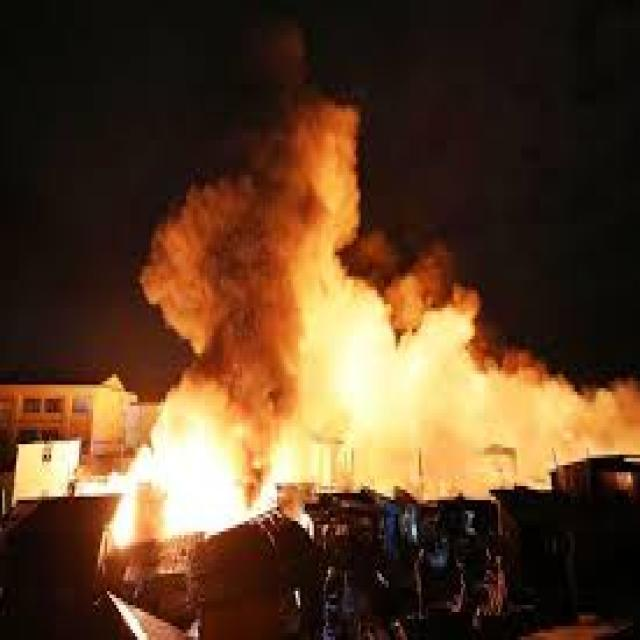Fire: (132, 432, 278, 540)
Smoke: (155, 36, 406, 398), (424, 333, 588, 502)
